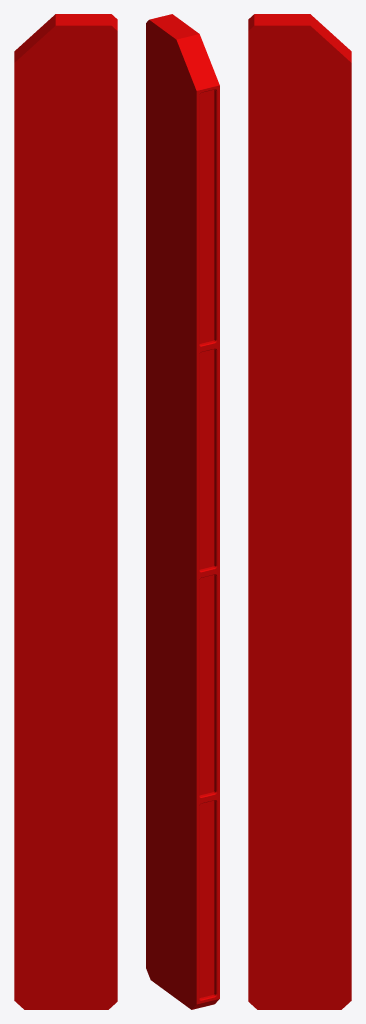
Rendered from Wall_21.fbx.
3 views of the same model, side by side, from view 1: azimuth 90°, elevation 25°; view 2: azimuth 210°, elevation 25°; view 3: azimuth 270°, elevation 25° (orthographic). The views are drawn at different scales.
Visible parts, largest first — view 1: L13:polySurface1; view 2: L13:polySurface1; view 3: L13:polySurface1.
Boxes of the visible parts, bbox=[...] form: L13:polySurface1: bbox=[14, 14, 117, 1009]; L13:polySurface1: bbox=[146, 14, 219, 1009]; L13:polySurface1: bbox=[248, 14, 351, 1009].
Bounding box in the file's own units: 19.28 × 760 × 72.51.
